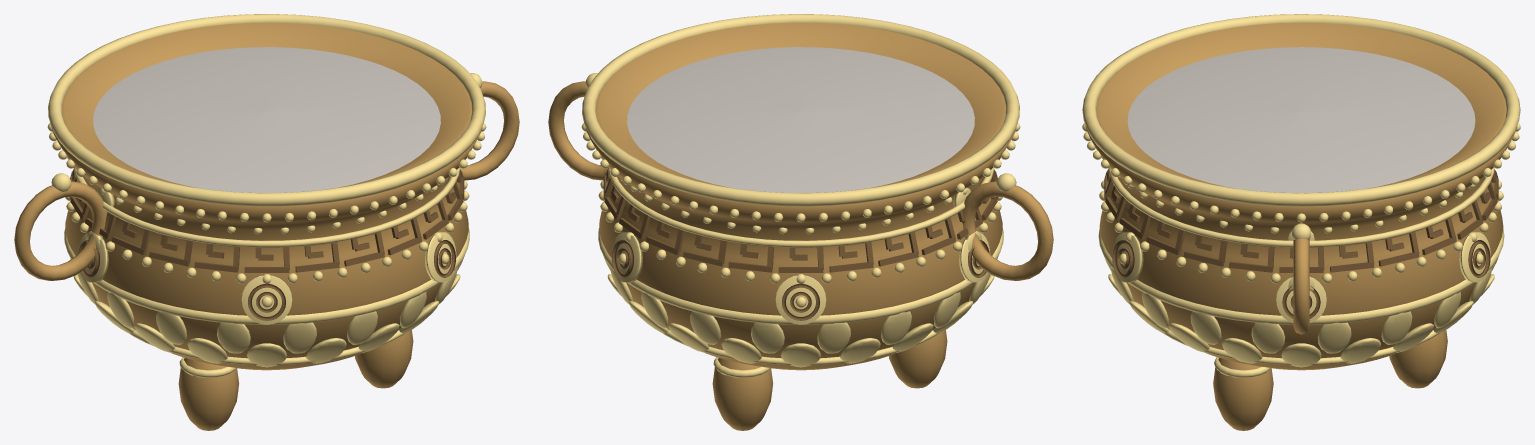
Rendered from incense_censer.glb.
3 views of the same model, side by side, from view 1: azimuth 30°, elevation 25°; view 2: azimuth 150°, elevation 25°; view 3: azimuth 270°, elevation 25° (orthographic).
Visible parts, largest first — view 1: censer, ash, orn_gold, lip, orn_patina, ear-1, band, foot1, band2, ear1, foot0, band4; view 2: censer, ash, orn_gold, lip, orn_patina, ear-1, band, foot2, band2, ear1, foot1, band4; view 3: censer, ash, orn_gold, lip, orn_patina, band, foot0, band2, foot2, ear1, band4.
Boxes of the visible parts, box(x1,y1,x2,y2) form: censer: box(51, 22, 482, 370); ash: box(93, 47, 440, 192); orn_gold: box(47, 73, 486, 377); lip: box(48, 14, 485, 206); orn_patina: box(69, 169, 464, 320); ear-1: box(14, 181, 106, 280); band: box(64, 228, 469, 324); foot1: box(178, 358, 239, 430); band2: box(73, 167, 460, 247); ear1: box(460, 81, 519, 180); foot0: box(355, 330, 413, 388); band4: box(129, 330, 404, 365); censer: box(585, 22, 1016, 370); ash: box(627, 47, 974, 192); orn_gold: box(581, 73, 1020, 377); lip: box(582, 14, 1019, 206); orn_patina: box(603, 169, 998, 320); ear-1: box(962, 181, 1053, 280); band: box(598, 228, 1003, 324); foot2: box(712, 358, 773, 430); band2: box(607, 167, 994, 247); ear1: box(548, 81, 607, 180); foot1: box(889, 330, 947, 388); band4: box(663, 330, 938, 365); censer: box(1085, 22, 1517, 370); ash: box(1127, 47, 1475, 193); orn_gold: box(1082, 123, 1520, 377); lip: box(1082, 14, 1520, 206); orn_patina: box(1104, 169, 1498, 318); band: box(1098, 229, 1504, 324); foot0: box(1213, 358, 1273, 430); band2: box(1108, 167, 1494, 247); foot2: box(1389, 330, 1447, 388); ear1: box(1293, 238, 1309, 334); band4: box(1163, 330, 1439, 364).
Bounding box in the file's own units: 1.15 × 0.619 × 0.869.
